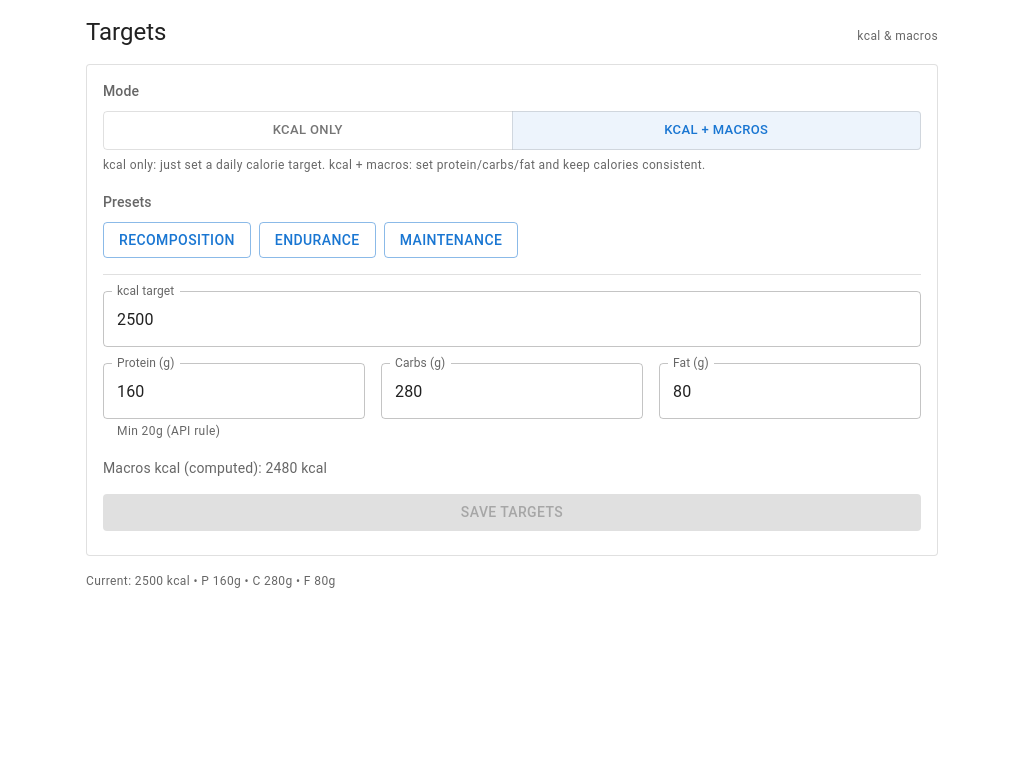
Scenario: TargetsRoute › shows save failure state
This screenshot has width=1024, height=768.
// Ensure the button is enabled
Replace the text in the number field labelled "kcal target" with "2400" at (512, 319), box 103,291 -> 921,347
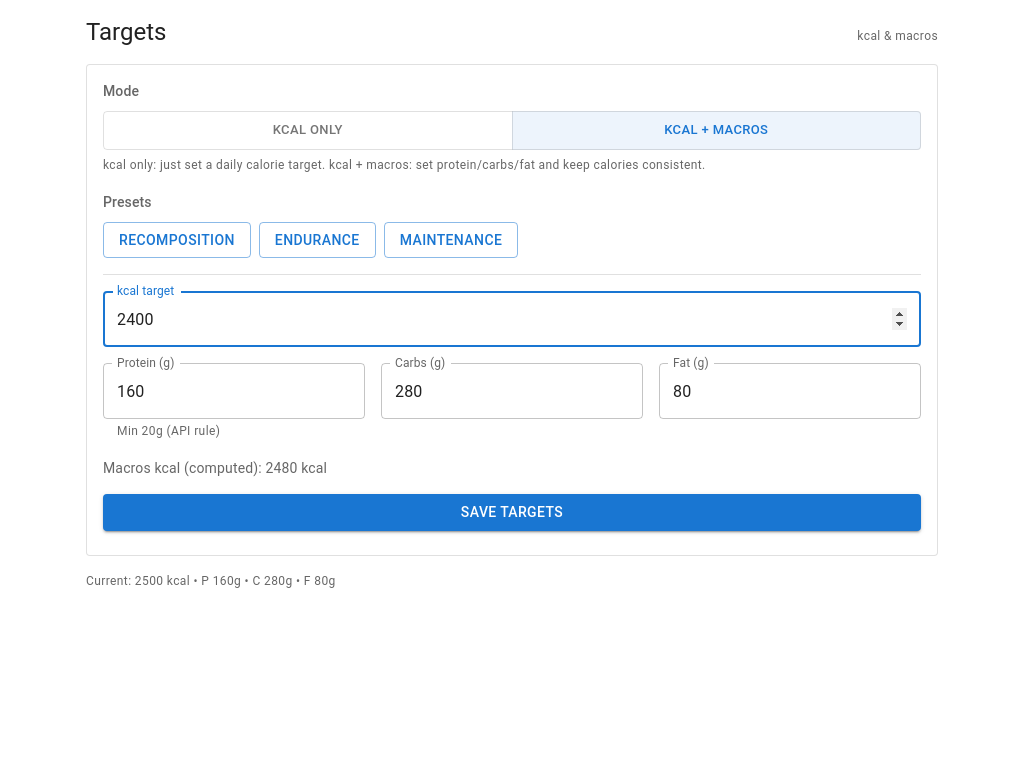
Click the button "Save targets" at (512, 512), box 103,494 -> 921,530
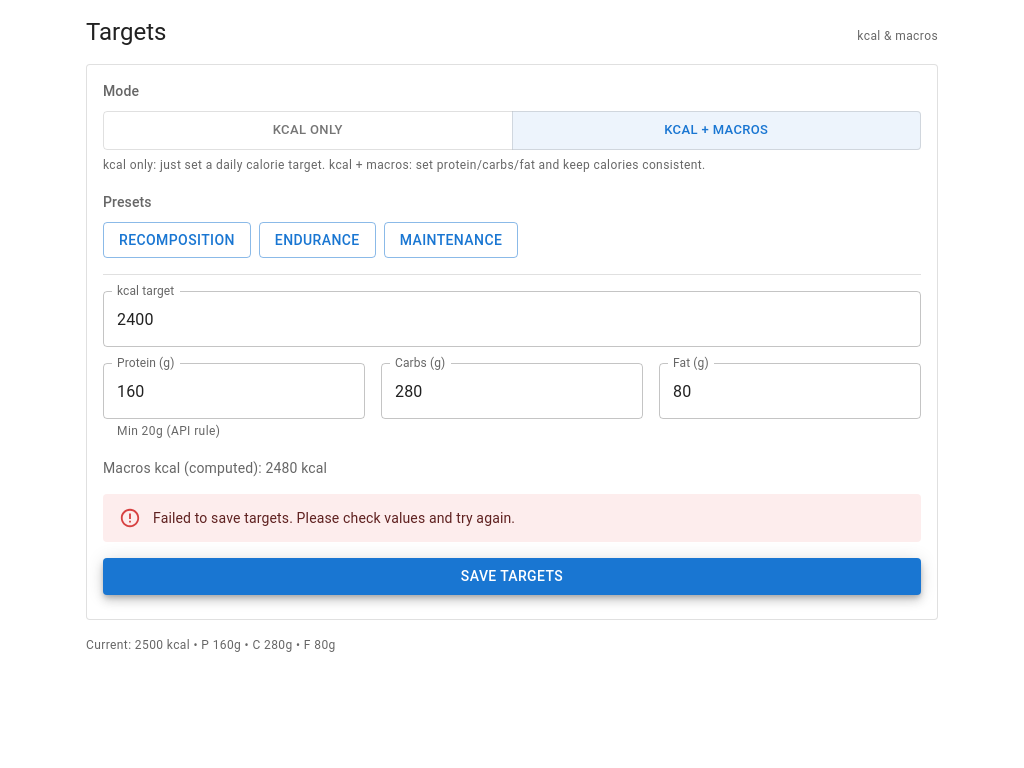
Check: the text "Failed to save targets. Please check values and try again." is shown, box 153,510 -> 515,526
